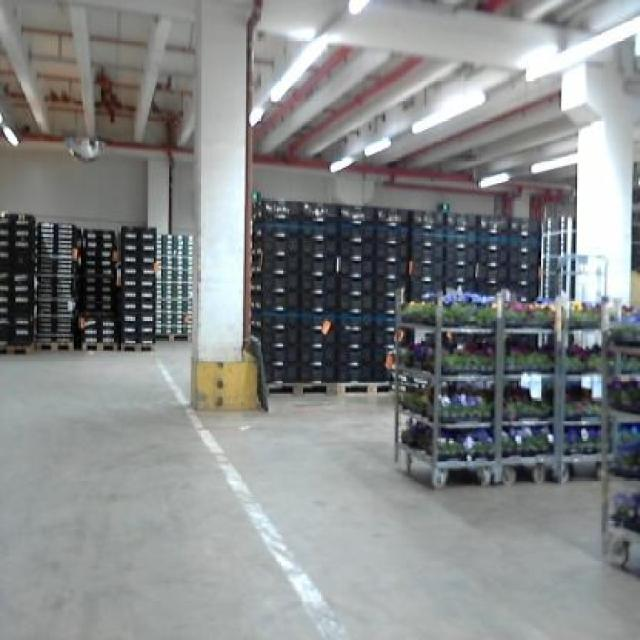floor: (0, 342, 637, 637)
pallets: (251, 197, 537, 380), (394, 294, 600, 485), (0, 212, 191, 349), (598, 305, 637, 574)
